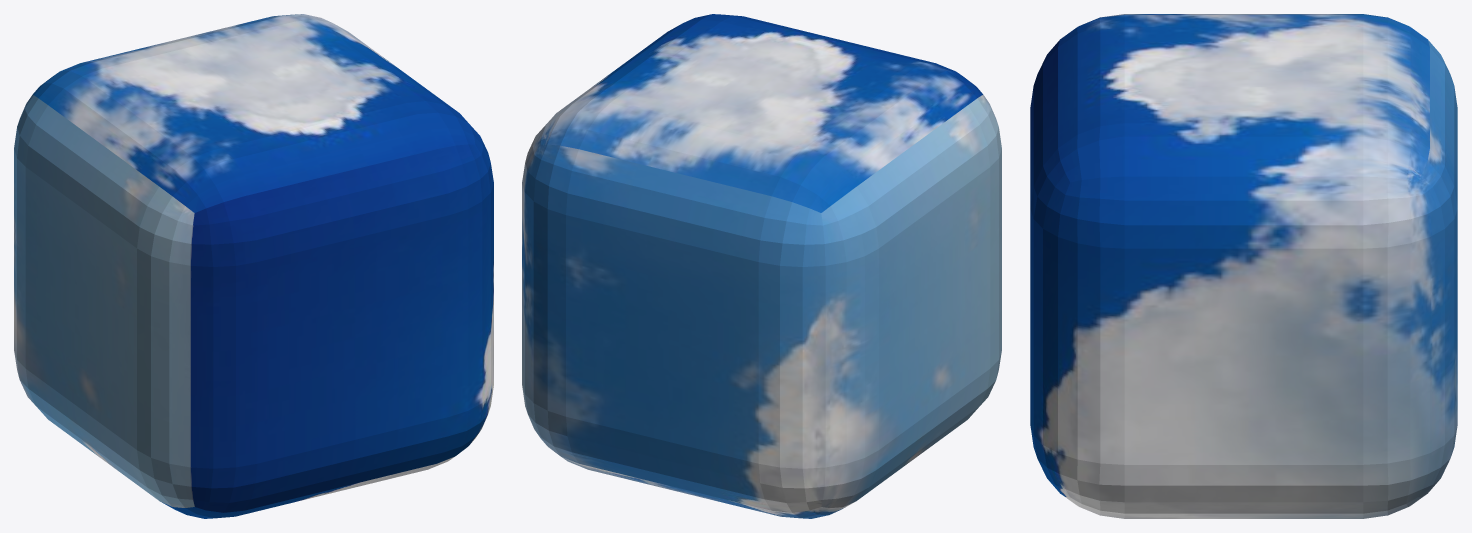
Rendered from air.obj.
3 renders of one model, left to right at view 1: azimuth 30°, elevation 25°; view 2: azimuth 150°, elevation 25°; view 3: azimuth 270°, elevation 25°, orthographic. The views are drawn at different scales.
Parts seen in each view (by area): view 1: Cube_Cube.001; view 2: Cube_Cube.001; view 3: Cube_Cube.001.
Part boxes in pixels (<box>): Cube_Cube.001: <box>14,14,493,518</box>; Cube_Cube.001: <box>522,14,1001,518</box>; Cube_Cube.001: <box>1030,14,1457,518</box>.
Size of the model in its own units: 2 by 2 by 2.
1 material, 1 textured.
